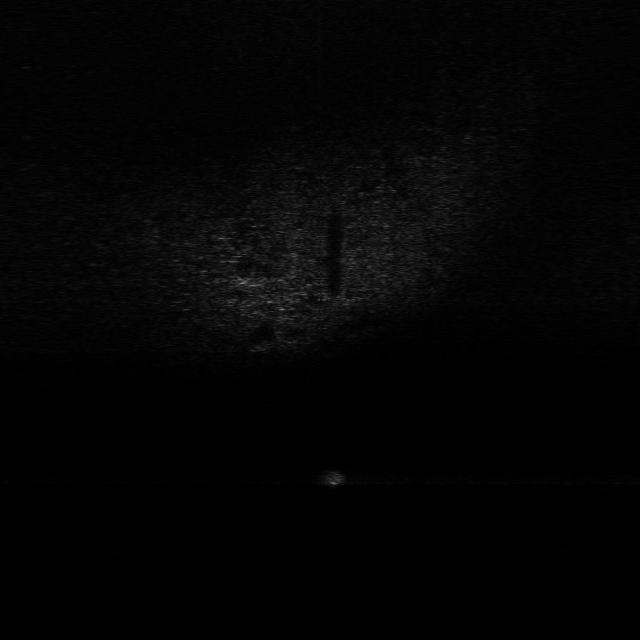cylinder: (322, 465, 347, 489)
